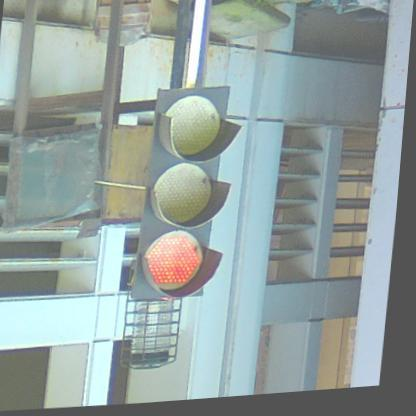red: (138, 84, 239, 302)
